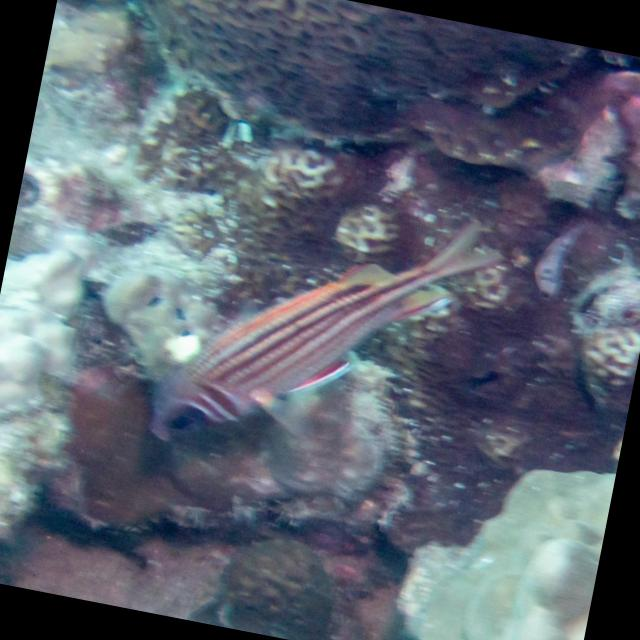Asker Baligi: (141, 162, 512, 500)
